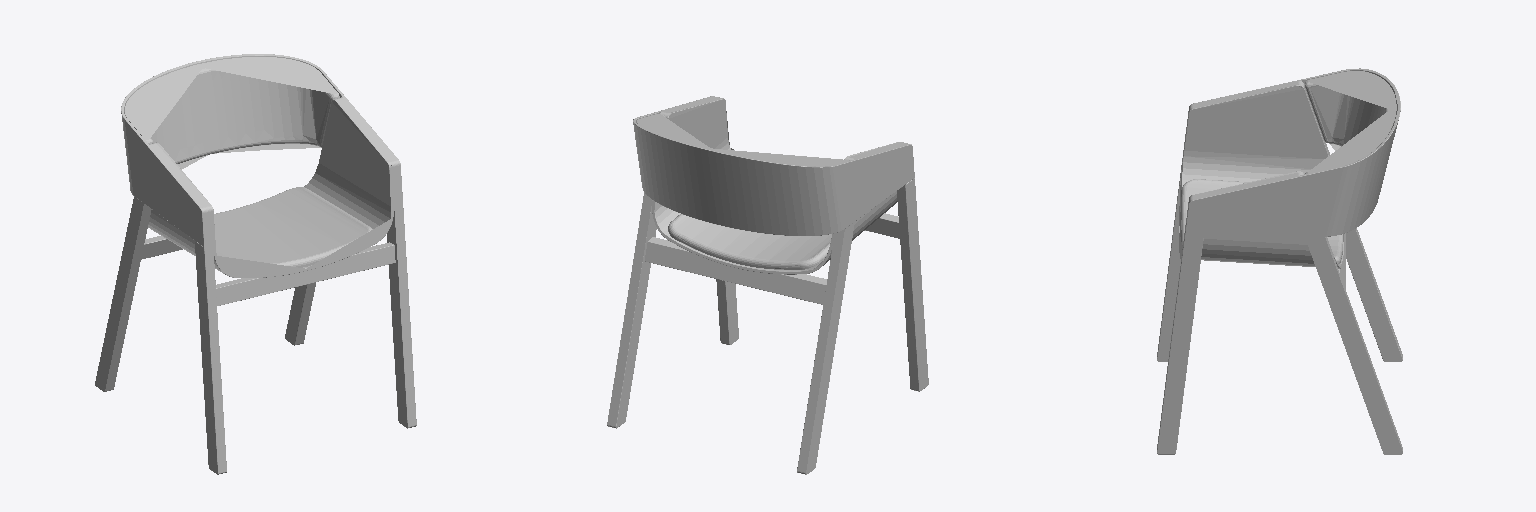
The model's file is Wood_chair.obj.
3 views of the same model, side by side, from view 1: azimuth 30°, elevation 25°; view 2: azimuth 150°, elevation 25°; view 3: azimuth 270°, elevation 25° (orthographic).
Visible parts, largest first — view 1: Mesh12 _1_017_4_1 G_324_400_1 Model, Mesh16 obj1_16_2 G_324_400_1 Model, Mesh13 _1_017_4_2 G_324_400_1 Model, Mesh14 obj12_4_1 G_324_400_1 Model, Mesh4 obj2_10_1 G_324_400_1 Model, Mesh9 obj5_10_2 G_324_400_1 Model, Mesh3 obj5_10_1 G_324_400_1 Model, Mesh7 obj3_11_2 G_324_400_1 Model, Mesh1 obj6_12_1 G_324_400_1 Model, Mesh15 obj12_4_2 G_324_400_1 Model, Mesh8 obj1_16_1 G_324_400_1 Model, Mesh6 obj3_11_1 G_324_400_1 Model (+4 smaller); view 2: Mesh4 obj2_10_1 G_324_400_1 Model, Mesh17 obj2_10_2 G_324_400_1 Model, Mesh7 obj3_11_2 G_324_400_1 Model, Mesh9 obj5_10_2 G_324_400_1 Model, Mesh6 obj3_11_1 G_324_400_1 Model, Mesh5 obj1_2_2_1 G_324_400_1 Model, Mesh16 obj1_16_2 G_324_400_1 Model, Mesh15 obj12_4_2 G_324_400_1 Model, Mesh14 obj12_4_1 G_324_400_1 Model, Mesh8 obj1_16_1 G_324_400_1 Model, Mesh3 obj5_10_1 G_324_400_1 Model, Mesh13 _1_017_4_2 G_324_400_1 Model (+2 smaller); view 3: Mesh17 obj2_10_2 G_324_400_1 Model, Mesh8 obj1_16_1 G_324_400_1 Model, Mesh6 obj3_11_1 G_324_400_1 Model, Mesh13 _1_017_4_2 G_324_400_1 Model, Mesh3 obj5_10_1 G_324_400_1 Model, Mesh16 obj1_16_2 G_324_400_1 Model, Mesh7 obj3_11_2 G_324_400_1 Model, Mesh12 _1_017_4_1 G_324_400_1 Model, Mesh9 obj5_10_2 G_324_400_1 Model, Mesh15 obj12_4_2 G_324_400_1 Model.
Boxes of the visible parts, <box> form: Mesh12 _1_017_4_1 G_324_400_1 Model: <box>198,57,339,153</box>; Mesh16 obj1_16_2 G_324_400_1 Model: <box>304,99,393,270</box>; Mesh13 _1_017_4_2 G_324_400_1 Model: <box>125,64,211,169</box>; Mesh14 obj12_4_1 G_324_400_1 Model: <box>226,187,372,266</box>; Mesh4 obj2_10_1 G_324_400_1 Model: <box>121,62,206,246</box>; Mesh9 obj5_10_2 G_324_400_1 Model: <box>195,212,226,474</box>; Mesh3 obj5_10_1 G_324_400_1 Model: <box>387,166,416,428</box>; Mesh7 obj3_11_2 G_324_400_1 Model: <box>95,196,151,391</box>; Mesh1 obj6_12_1 G_324_400_1 Model: <box>216,242,395,305</box>; Mesh15 obj12_4_2 G_324_400_1 Model: <box>214,211,305,267</box>; Mesh8 obj1_16_1 G_324_400_1 Model: <box>148,142,306,277</box>; Mesh6 obj3_11_1 G_324_400_1 Model: <box>285,282,315,345</box>; Mesh4 obj2_10_1 G_324_400_1 Model: <box>708,144,914,235</box>; Mesh17 obj2_10_2 G_324_400_1 Model: <box>633,96,717,224</box>; Mesh7 obj3_11_2 G_324_400_1 Model: <box>797,222,854,474</box>; Mesh9 obj5_10_2 G_324_400_1 Model: <box>897,178,928,391</box>; Mesh6 obj3_11_1 G_324_400_1 Model: <box>607,192,656,428</box>; Mesh5 obj1_2_2_1 G_324_400_1 Model: <box>645,237,826,304</box>; Mesh16 obj1_16_2 G_324_400_1 Model: <box>652,98,736,267</box>; Mesh15 obj12_4_2 G_324_400_1 Model: <box>736,233,831,269</box>; Mesh14 obj12_4_1 G_324_400_1 Model: <box>668,214,762,262</box>; Mesh8 obj1_16_1 G_324_400_1 Model: <box>735,142,900,274</box>; Mesh3 obj5_10_1 G_324_400_1 Model: <box>716,279,738,344</box>; Mesh13 _1_017_4_2 G_324_400_1 Model: <box>711,149,849,166</box>; Mesh17 obj2_10_2 G_324_400_1 Model: <box>1185,106,1400,236</box>; Mesh8 obj1_16_1 G_324_400_1 Model: <box>1179,84,1344,241</box>; Mesh6 obj3_11_1 G_324_400_1 Model: <box>1305,237,1402,454</box>; Mesh13 _1_017_4_2 G_324_400_1 Model: <box>1305,71,1396,150</box>; Mesh3 obj5_10_1 G_324_400_1 Model: <box>1157,204,1203,454</box>; Mesh16 obj1_16_2 G_324_400_1 Model: <box>1179,171,1344,268</box>; Mesh7 obj3_11_2 G_324_400_1 Model: <box>1304,84,1402,361</box>; Mesh12 _1_017_4_1 G_324_400_1 Model: <box>1305,107,1396,173</box>; Mesh9 obj5_10_2 G_324_400_1 Model: <box>1157,112,1188,361</box>; Mesh15 obj12_4_2 G_324_400_1 Model: <box>1180,179,1343,236</box>.
Bounding box in the file's own units: 0.54 × 0.7795 × 0.5786.